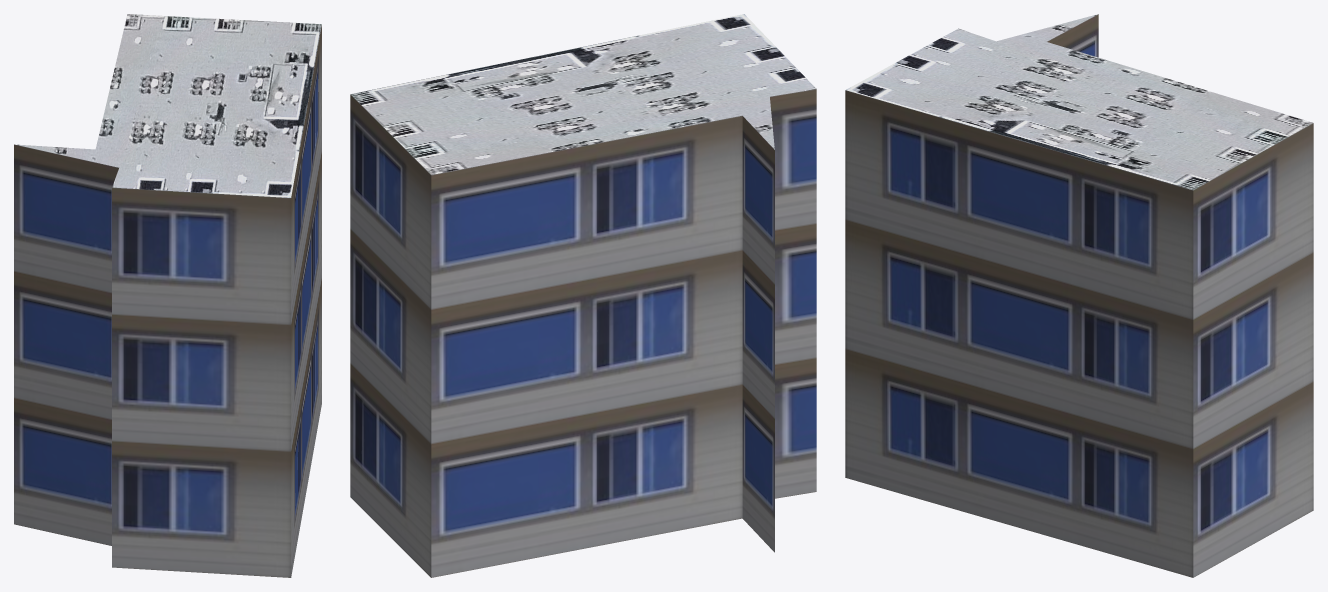
File: ResTex__3924.fbx
The picture shows the model from 3 angles, left to right: view 1: azimuth 30°, elevation 25°; view 2: azimuth 150°, elevation 25°; view 3: azimuth 270°, elevation 25°; orthographic projection. The views are drawn at different scales.
Visible parts, largest first — view 1: CityEngineMaterial_23_m, CityEngineMaterial_8_m; view 2: CityEngineMaterial_23_m, CityEngineMaterial_8_m; view 3: CityEngineMaterial_23_m, CityEngineMaterial_8_m.
Boxes of the visible parts, x1=… form: CityEngineMaterial_23_m: x1=14, y1=25, x2=321, y2=577; CityEngineMaterial_8_m: x1=16, y1=14, x2=321, y2=197; CityEngineMaterial_23_m: x1=350, y1=89, x2=816, y2=577; CityEngineMaterial_8_m: x1=350, y1=14, x2=816, y2=174; CityEngineMaterial_23_m: x1=845, y1=14, x2=1313, y2=577; CityEngineMaterial_8_m: x1=845, y1=14, x2=1312, y2=189.
Size of the model in its own units: 8.78 by 9 by 9.85.
Materials: 2 (2 with a texture image).
